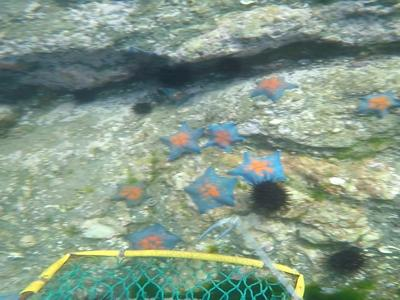urchin: (256, 183, 285, 212), (328, 249, 363, 272), (77, 89, 95, 103), (132, 104, 153, 114)
